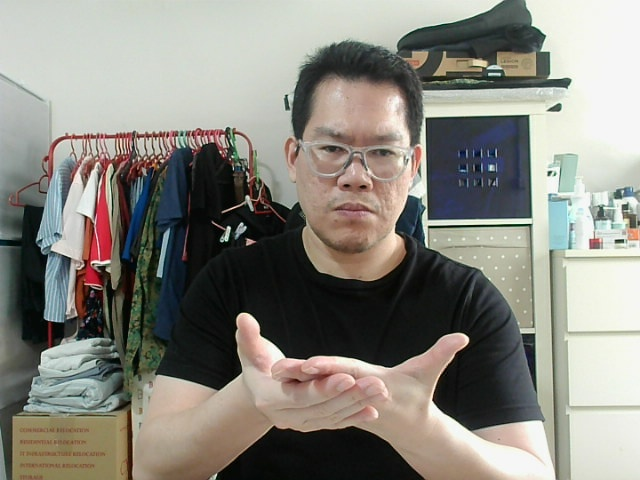good: (245, 323, 376, 431)
